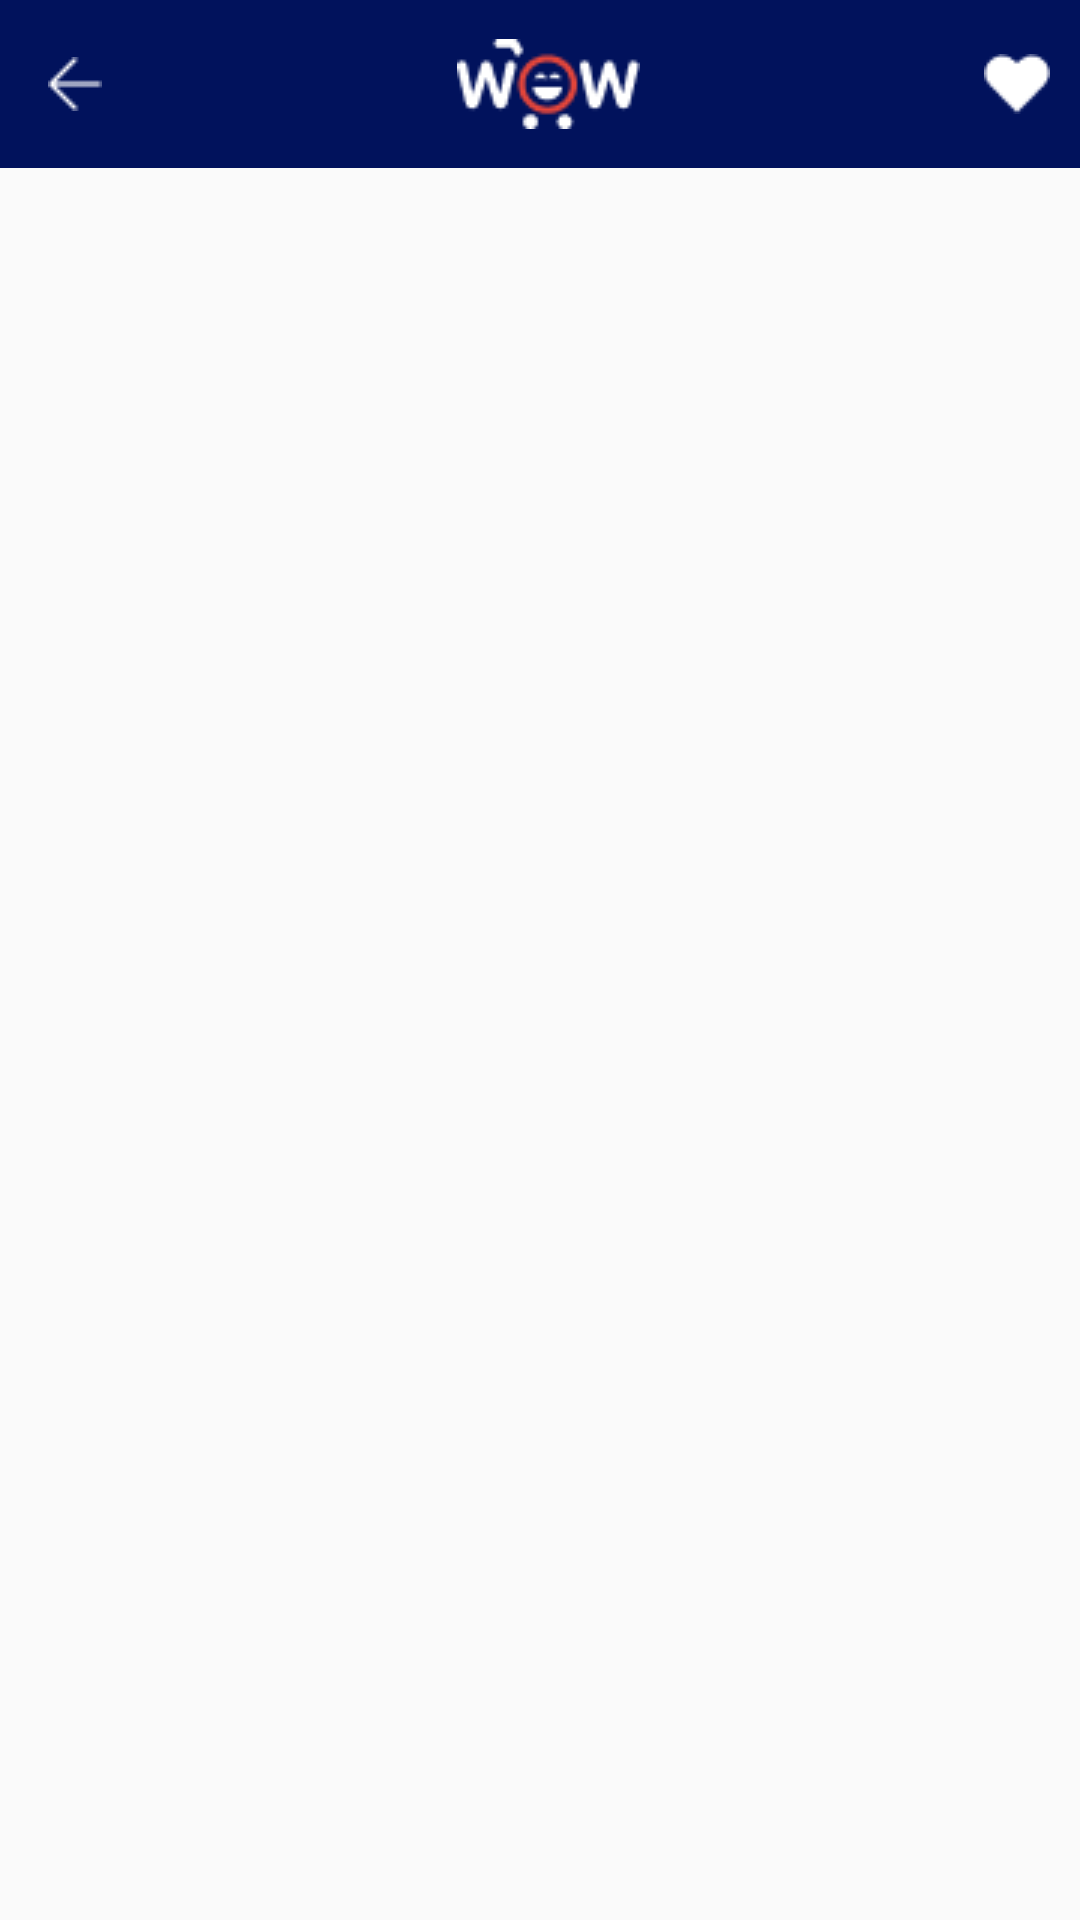

Icons on this 1080 x 1920 Android screen, each with its box as (x1, y1, x2, y2):
likefett: (984, 54, 1050, 114)
zuruck: (48, 57, 102, 111)
